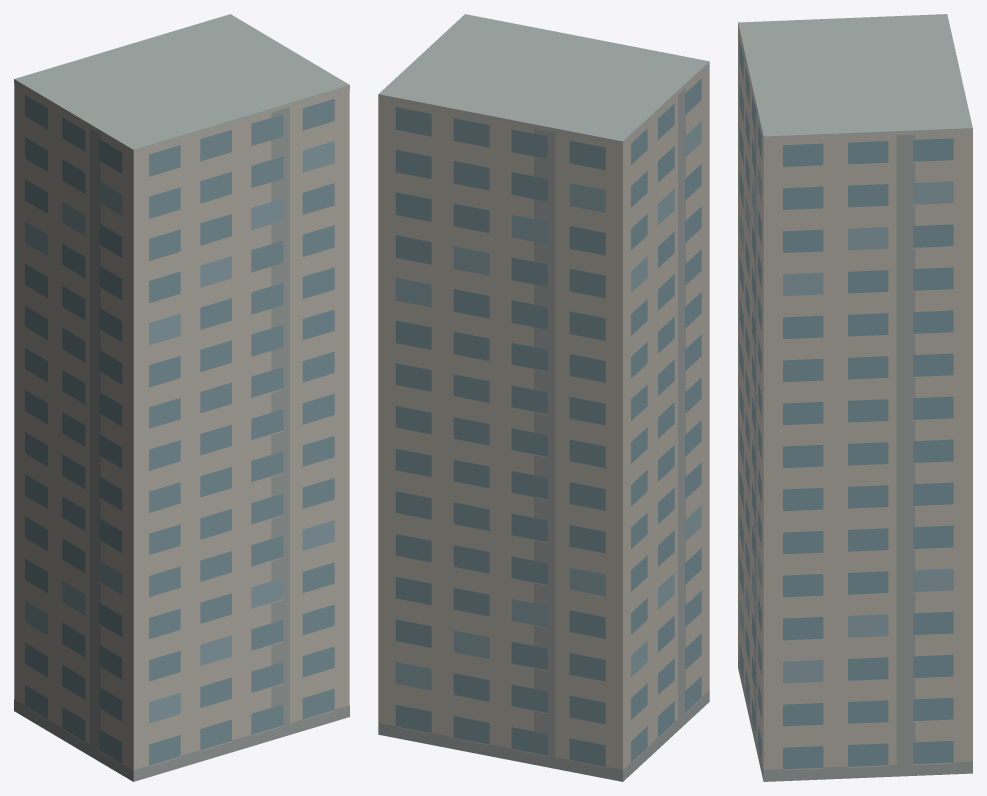
Rendered from residential-9af17693-962d-4374-aa87-90dba3da7b6a.glb.
3 renders of one model, left to right at view 1: azimuth 30°, elevation 25°; view 2: azimuth 150°, elevation 25°; view 3: azimuth 270°, elevation 25°, orthographic. The views are drawn at different scales.
Visible parts, largest first — view 1: residential-9af17693-962d-4374-aa87-90dba3da7b6a.tmp; view 2: residential-9af17693-962d-4374-aa87-90dba3da7b6a.tmp; view 3: residential-9af17693-962d-4374-aa87-90dba3da7b6a.tmp.
Boxes of the visible parts, bbox=[...] form: residential-9af17693-962d-4374-aa87-90dba3da7b6a.tmp: bbox=[14, 14, 349, 781]; residential-9af17693-962d-4374-aa87-90dba3da7b6a.tmp: bbox=[378, 14, 709, 781]; residential-9af17693-962d-4374-aa87-90dba3da7b6a.tmp: bbox=[738, 14, 972, 781].
Size of the model in its own units: 14.66 by 36 by 11.88.
